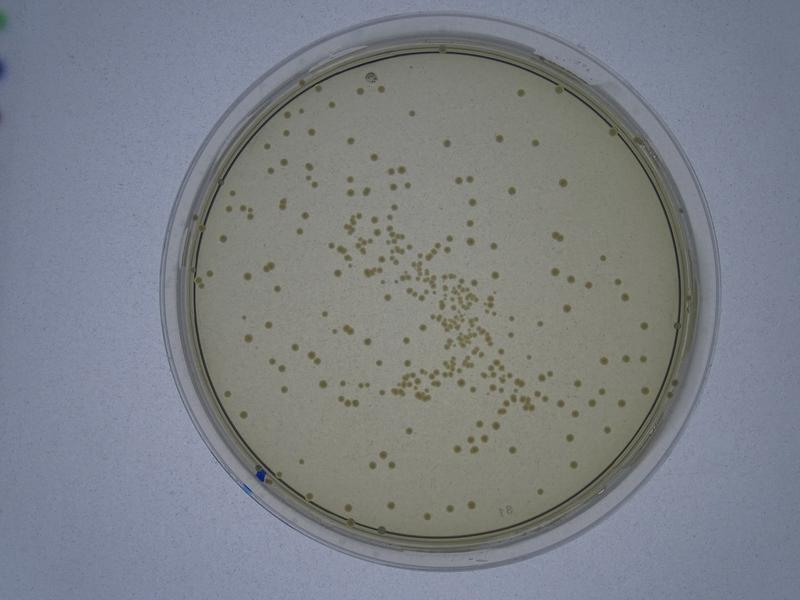colony: (561, 429, 576, 443), (240, 272, 253, 285), (505, 185, 517, 199), (561, 302, 573, 316), (316, 377, 328, 390), (401, 425, 416, 435), (512, 87, 525, 98), (558, 177, 569, 189), (345, 135, 356, 147), (362, 334, 372, 347), (534, 318, 545, 329), (280, 385, 290, 397), (406, 107, 416, 119), (530, 137, 542, 147), (385, 501, 397, 511), (441, 138, 452, 148), (218, 233, 228, 244), (418, 321, 426, 334), (243, 333, 254, 342), (491, 269, 500, 280), (401, 334, 410, 345), (551, 265, 559, 277), (333, 268, 342, 278), (493, 134, 504, 142), (301, 208, 309, 219), (279, 157, 287, 168), (290, 342, 299, 351), (271, 284, 280, 293), (599, 253, 608, 262), (370, 153, 378, 163), (468, 197, 476, 207), (382, 293, 390, 303), (489, 240, 496, 251), (295, 227, 303, 236), (263, 321, 272, 329), (466, 237, 474, 246), (320, 310, 328, 318)
